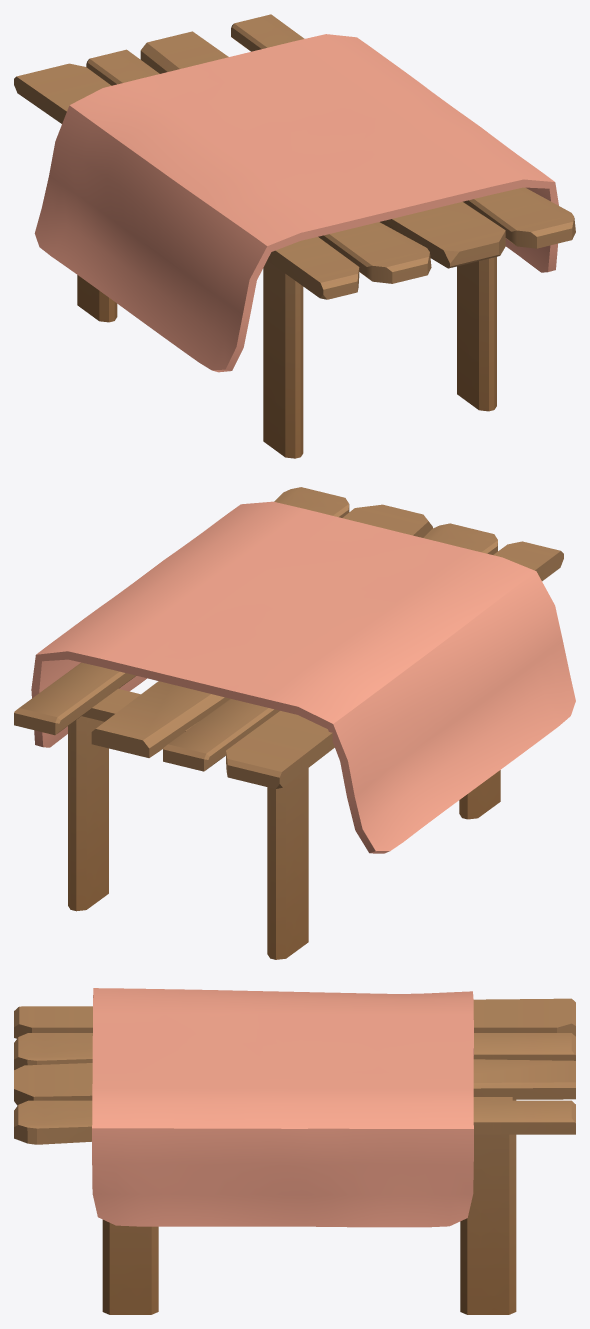
Rendered from Table02.fbx.
The picture shows the model from 3 angles, top to bottom: view 1: azimuth 30°, elevation 25°; view 2: azimuth 150°, elevation 25°; view 3: azimuth 270°, elevation 25°; orthographic projection. The views are drawn at different scales.
Visible parts, largest first — view 1: Table02; view 2: Table02; view 3: Table02.
Boxes of the visible parts, x1=… form: Table02: x1=14, y1=14, x2=575, y2=458; Table02: x1=14, y1=487, x2=575, y2=959; Table02: x1=14, y1=988, x2=575, y2=1314.
Size of the model in its own units: 1.35 by 2 by 0.8653.
